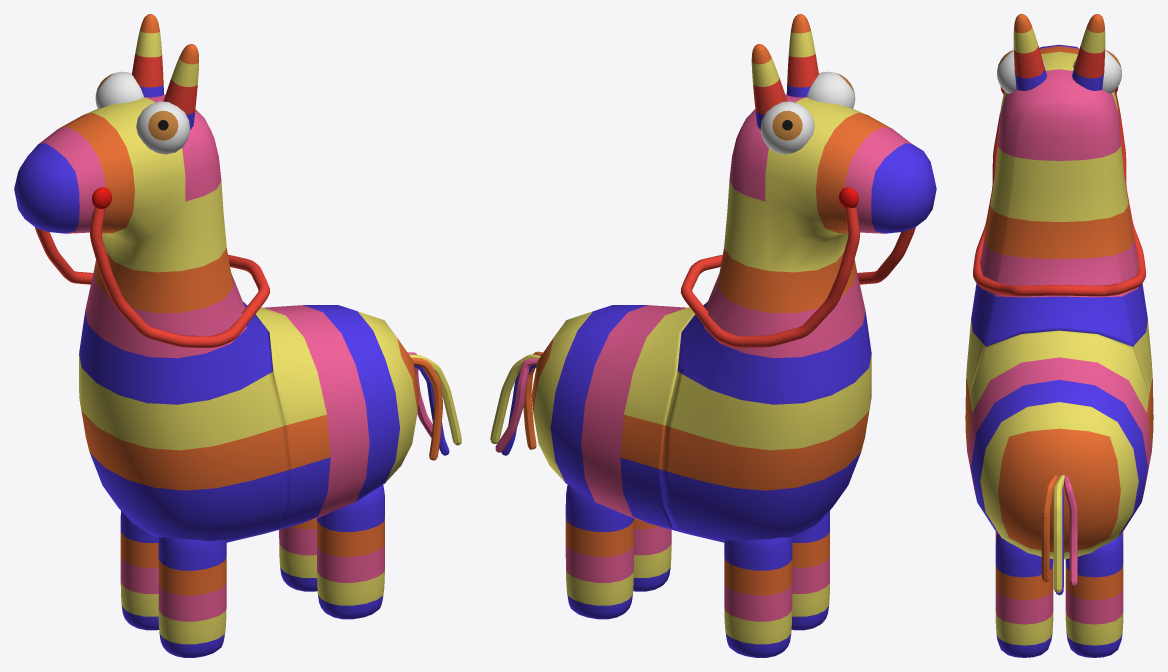
Rendered from PinatiaBreak.fbx.
The picture shows the model from 3 angles, left to right: view 1: azimuth 30°, elevation 25°; view 2: azimuth 150°, elevation 25°; view 3: azimuth 270°, elevation 25°; orthographic projection. The views are drawn at different scales.
Parts seen in each view (by area): view 1: Cube.103, Cube.106, Cube.104, Cube.107, Vert.035, Cube.105, Sphere.040, Vert.039, Vert.038; view 2: Cube.103, Cube.106, Cube.104, Cube.107, Vert.035, Cube.105, Sphere.040, Vert.037, Vert.038, Vert.039; view 3: Cube.103, Cube.106, Cube.107, Cube.105, Vert.035, Sphere.040, Vert.038, Vert.037, Vert.039.
Part boxes in pixels (x1,y1,x2,y2): Cube.103: (14,94,289,542); Cube.106: (256,305,419,533); Cube.104: (120,511,226,657); Cube.107: (279,485,384,619); Vert.035: (35,207,269,347); Cube.105: (132,14,198,129); Sphere.040: (95,71,190,154); Vert.039: (411,358,442,460); Vert.038: (409,354,461,445); Cube.103: (661,94,936,542); Cube.106: (531,305,694,533); Cube.104: (724,511,829,657); Cube.107: (565,485,671,619); Vert.035: (680,207,915,347); Cube.105: (751,14,818,129); Sphere.040: (760,71,855,154); Vert.037: (495,358,538,452); Vert.038: (490,354,540,443); Vert.039: (523,351,542,449); Cube.103: (965,44,1153,432); Cube.106: (966,330,1152,559); Cube.107: (995,533,1123,657); Cube.105: (1013,14,1105,90); Vert.035: (973,93,1145,296); Sphere.040: (997,50,1121,93); Vert.038: (1053,475,1064,592); Vert.037: (1064,475,1077,585); Vert.039: (1041,475,1057,581).
Size of the model in its own units: 73.47 by 96.72 by 29.39.
